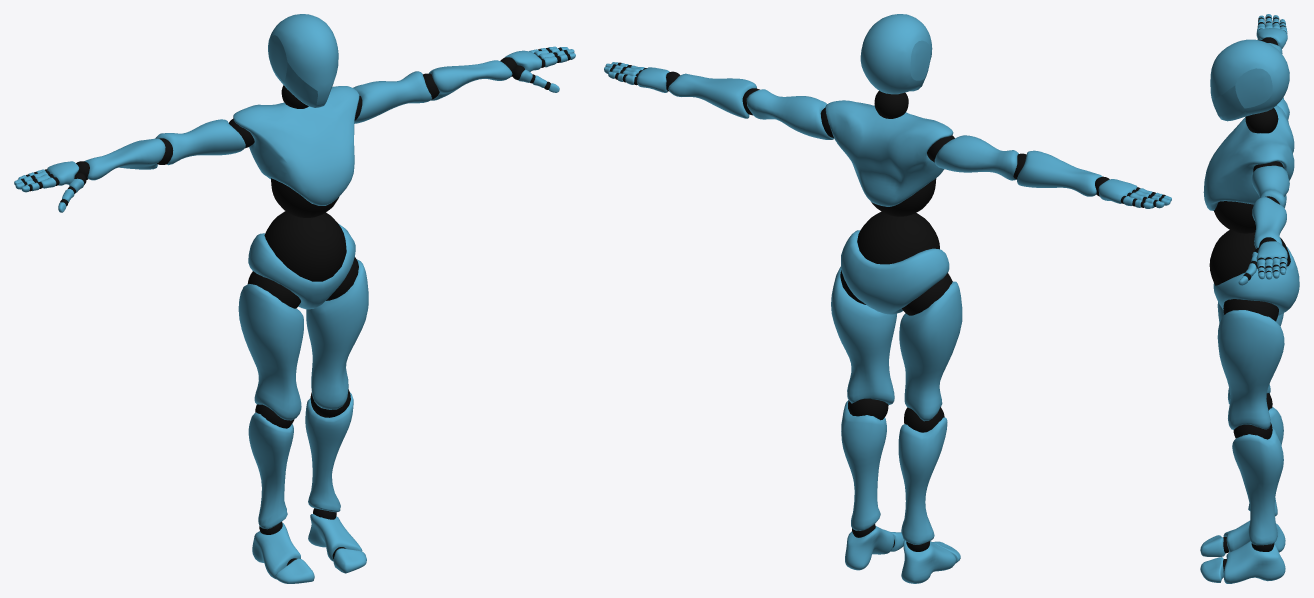
File: Beta.obj
3 renders of one model, left to right at view 1: azimuth 30°, elevation 25°; view 2: azimuth 150°, elevation 25°; view 3: azimuth 270°, elevation 25°, orthographic. The views are drawn at different scales.
Parts seen in each view (by area): view 1: Beta_HighLimbsGeo, Beta_HighTorsoGeo, Beta_HighJointsGeo; view 2: Beta_HighLimbsGeo, Beta_HighTorsoGeo, Beta_HighJointsGeo; view 3: Beta_HighLimbsGeo, Beta_HighTorsoGeo, Beta_HighJointsGeo.
Part boxes in pixels (x1,y1,x2,y2): Beta_HighLimbsGeo: (14, 46, 575, 583); Beta_HighTorsoGeo: (233, 14, 359, 309); Beta_HighJointsGeo: (21, 47, 570, 565); Beta_HighLimbsGeo: (604, 62, 1171, 583); Beta_HighTorsoGeo: (825, 14, 953, 314); Beta_HighJointsGeo: (609, 62, 1165, 551); Beta_HighLimbsGeo: (1200, 14, 1289, 583); Beta_HighTorsoGeo: (1203, 39, 1299, 315); Beta_HighJointsGeo: (1209, 16, 1290, 572).
Size of the model in its own units: 1.94 by 1.81 by 0.31.
